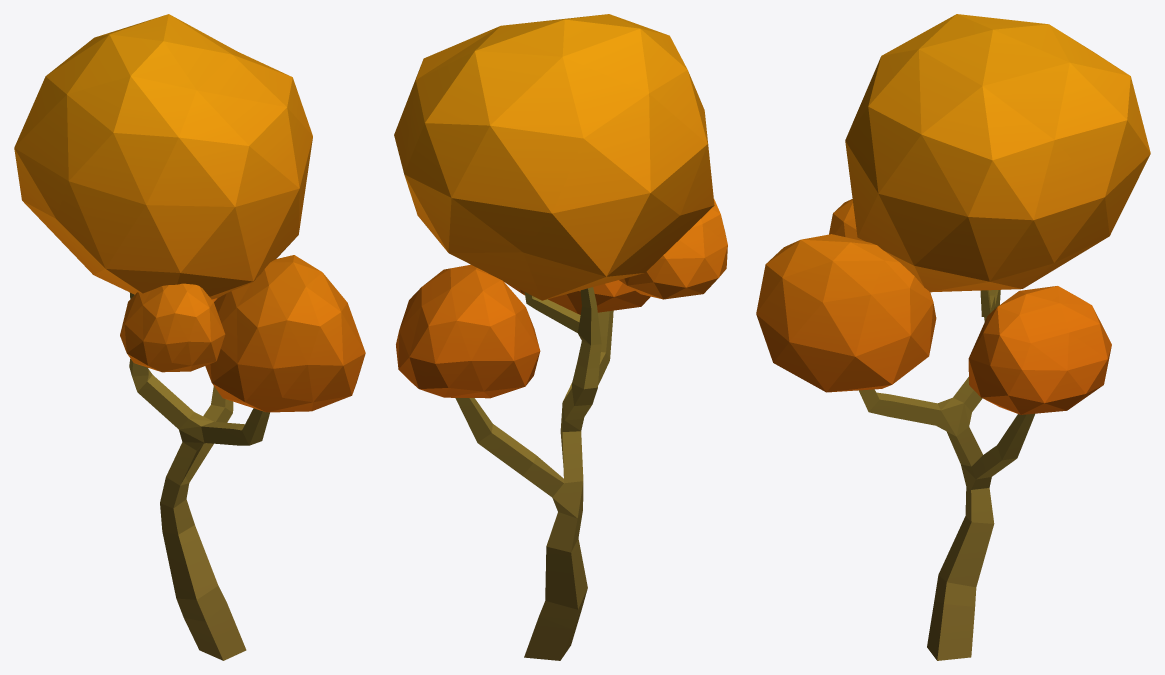
Rendered from tree_5.glb.
3 renders of one model, left to right at view 1: azimuth 30°, elevation 25°; view 2: azimuth 150°, elevation 25°; view 3: azimuth 270°, elevation 25°, orthographic. The views are drawn at different scales.
Visible parts, largest first — view 1: tree_5; view 2: tree_5; view 3: tree_5.
Boxes of the visible parts, x1=… form: tree_5: x1=14, y1=14, x2=365, y2=660; tree_5: x1=394, y1=14, x2=727, y2=660; tree_5: x1=756, y1=14, x2=1150, y2=660.
Bounding box in the file's own units: 2.29 × 5.24 × 3.1.
1 material, 1 textured.
